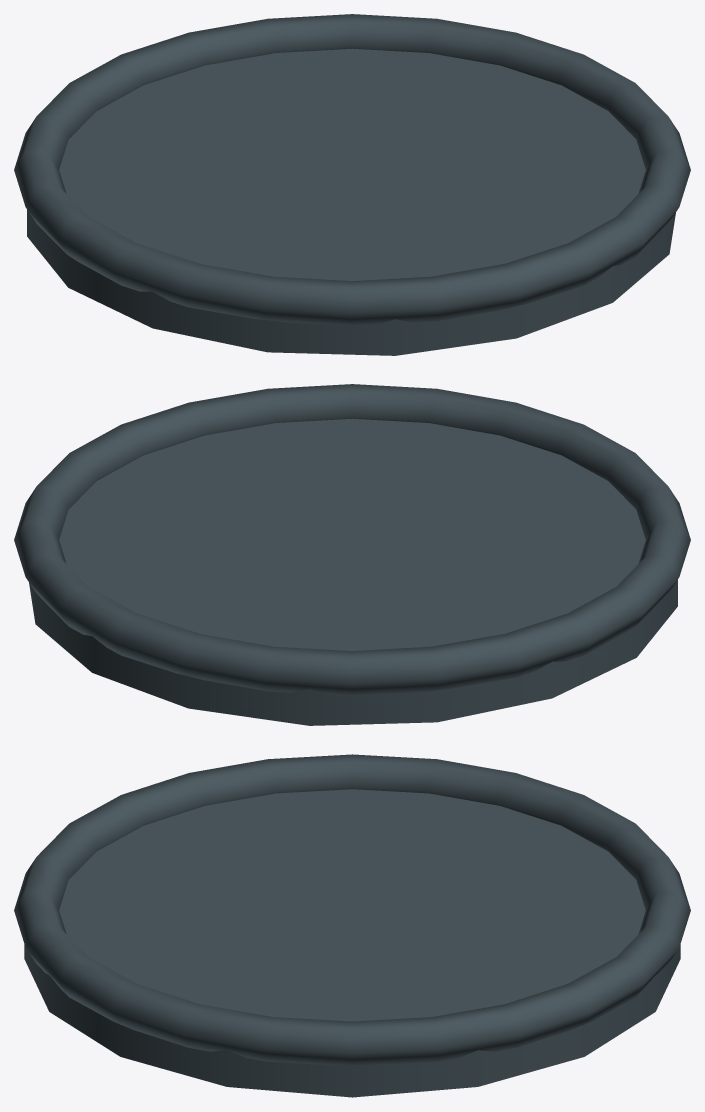
File: pan.glb
3 views of the same model, one above another, from view 1: azimuth 30°, elevation 25°; view 2: azimuth 150°, elevation 25°; view 3: azimuth 270°, elevation 25° (orthographic).
Visible parts, largest first — view 1: pan; view 2: pan; view 3: pan.
Boxes of the visible parts, left/top/right/bottom form: pan: left=14, top=14, right=690, bottom=355; pan: left=14, top=384, right=690, bottom=725; pan: left=14, top=754, right=690, bottom=1097.
Size of the model in its own units: 1.65 by 0.1776 by 1.65.
